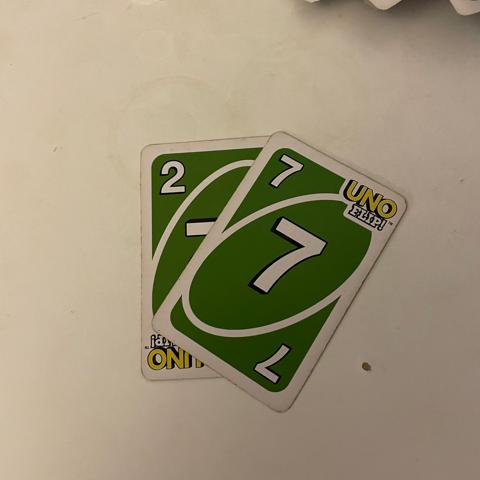lgreen-2: (148, 151, 194, 204)
lgreen-7: (266, 150, 307, 204)
